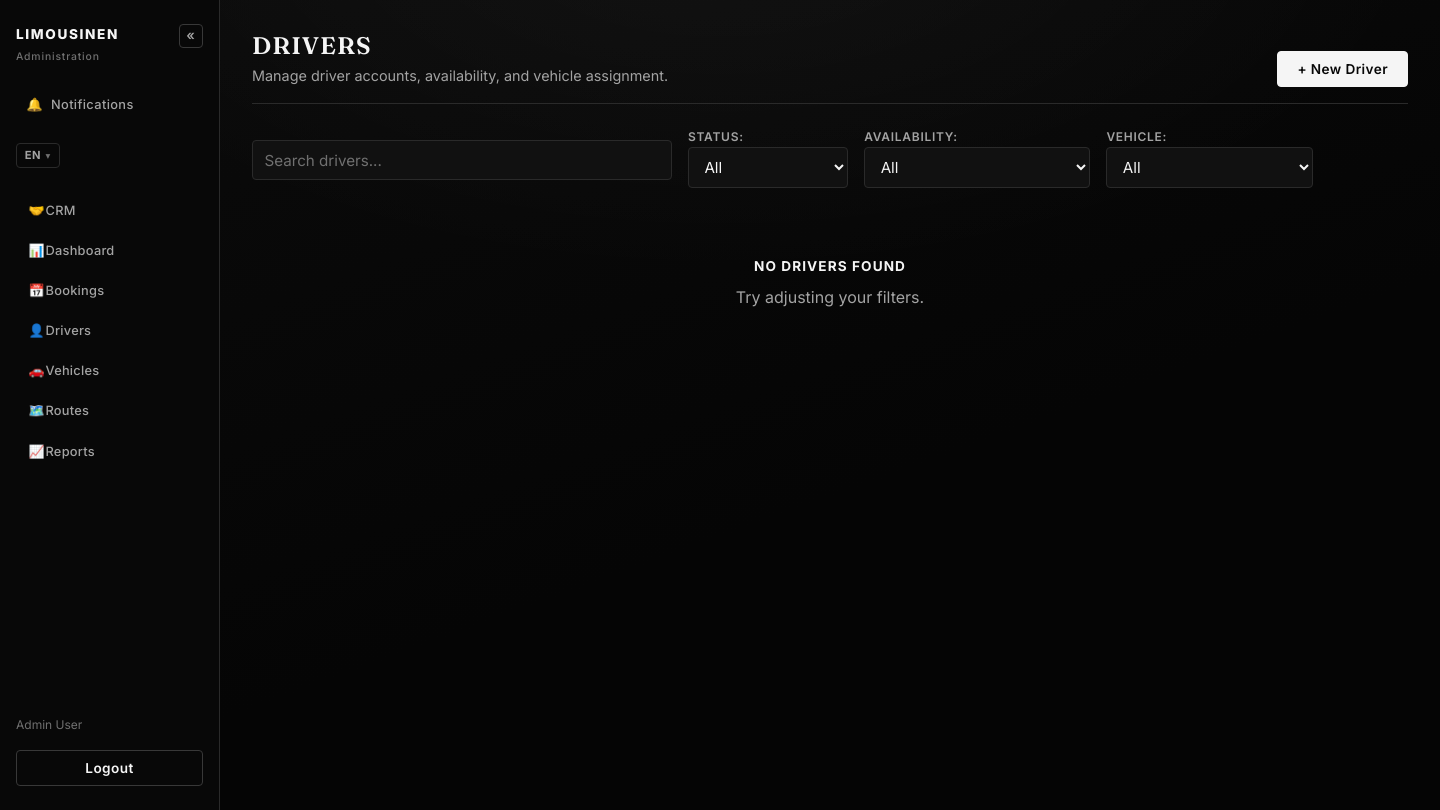
Test: DriversPage › rejects an empty create-driver form client-side
Expected: the text "No Drivers Found" is shown, [754,258,906,274]
Click the button "+ New Driver" at (1343, 69), box [1278,52,1408,87]
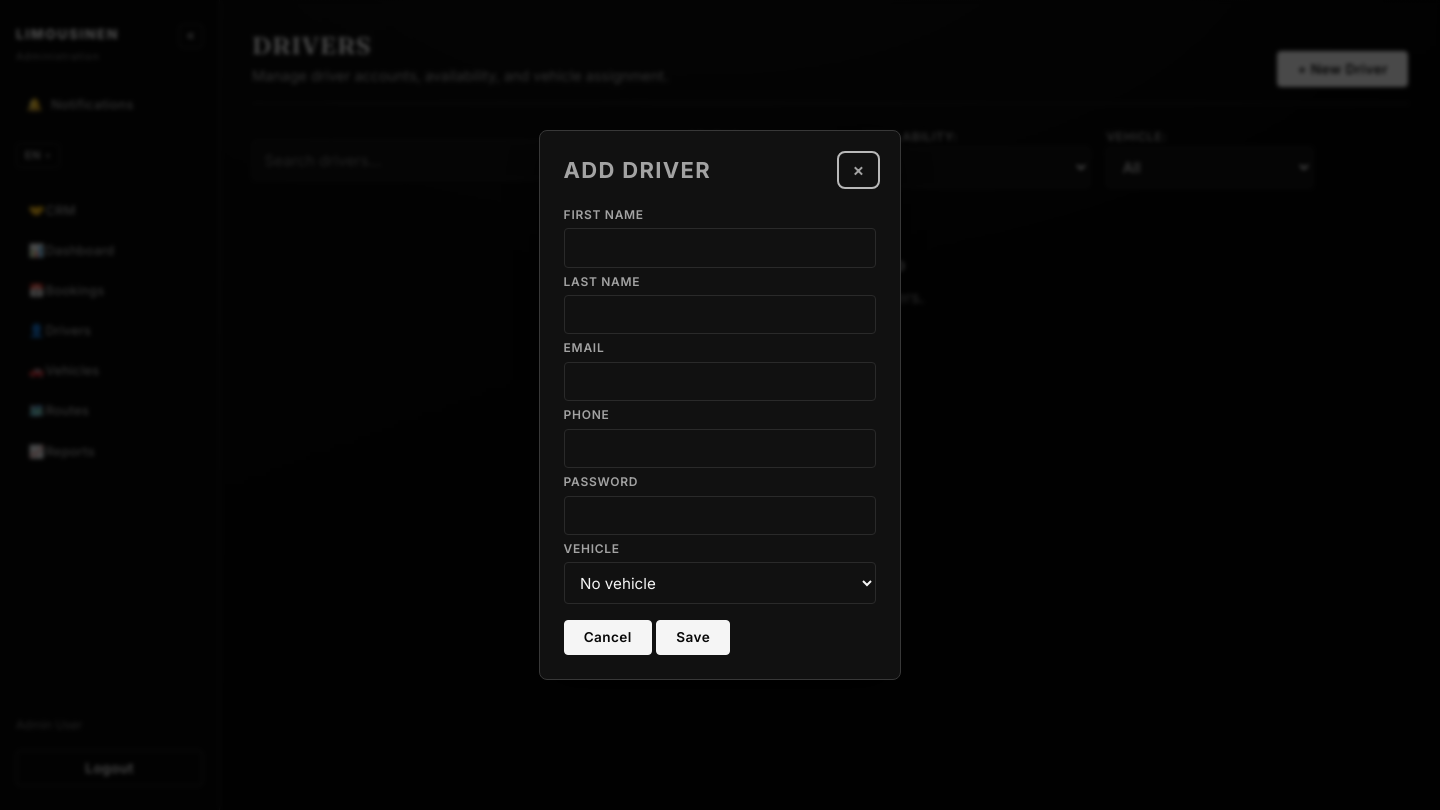
Click the button "Save" at (693, 637), box [656,620,730,655]
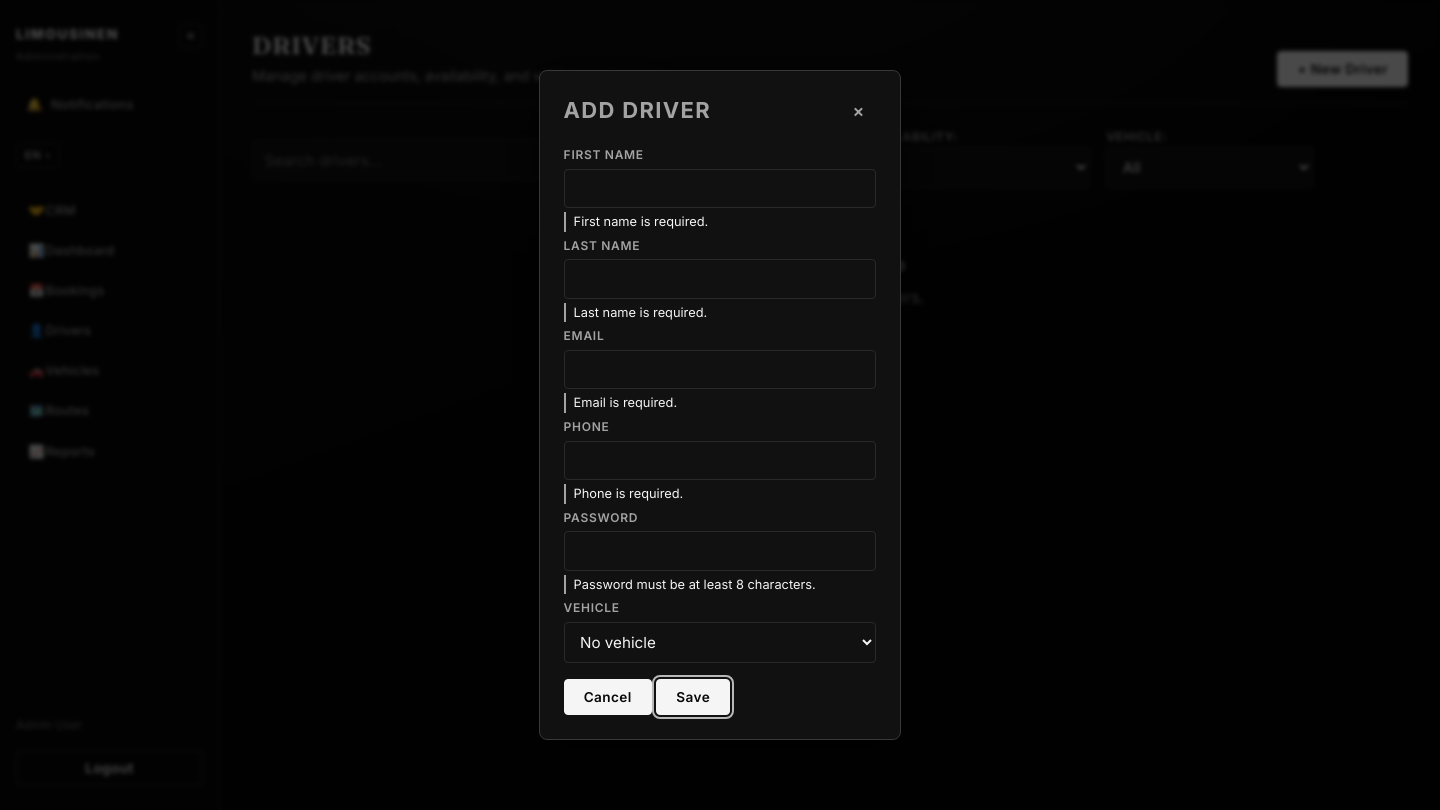
Result: the text "First name is required." is shown at [564,212,876,232]
